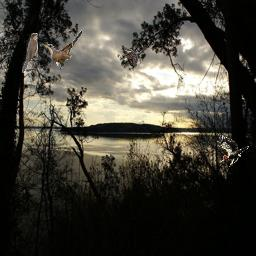Cuckoo: (44, 30, 82, 70), (22, 33, 38, 73), (125, 49, 138, 66)
Woodpecker: (217, 135, 249, 167)
